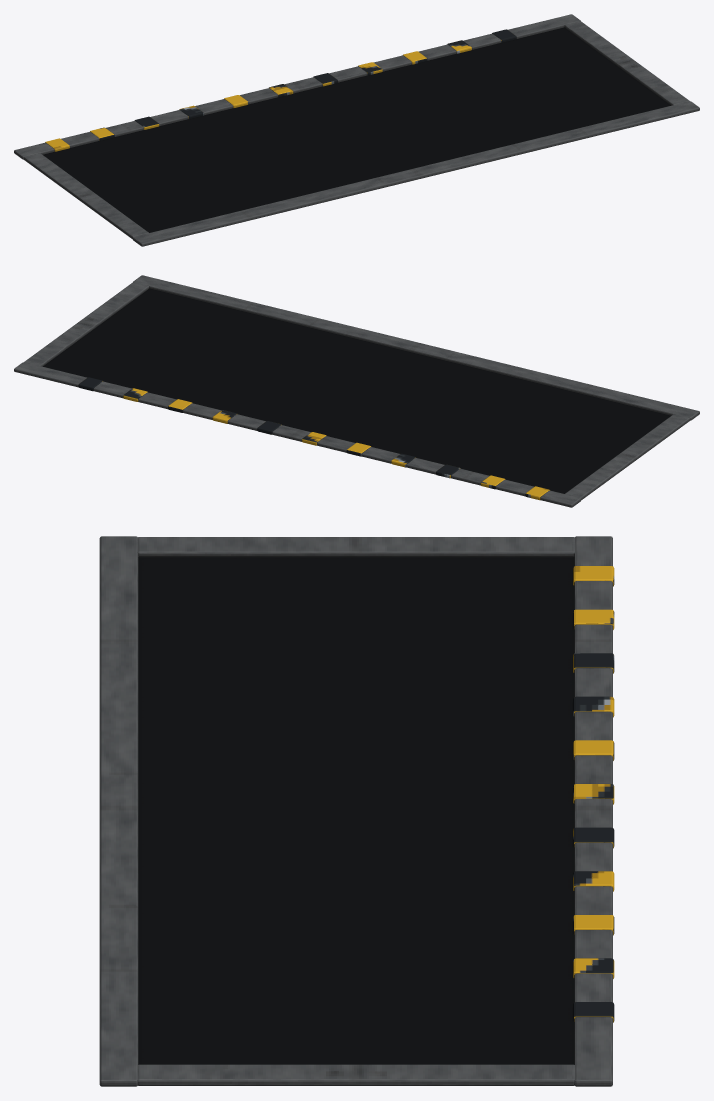
The model's file is base_rack_hatch.glb.
The picture shows the model from 3 angles, top to bottom: view 1: azimuth 30°, elevation 25°; view 2: azimuth 150°, elevation 25°; view 3: azimuth 270°, elevation 25°; orthographic projection. The views are drawn at different scales.
Visible parts, largest first — view 1: base_rack_hatch; view 2: base_rack_hatch; view 3: base_rack_hatch.
Part boxes in pixels (bbox=[...]): base_rack_hatch: bbox=[14, 14, 699, 246]; base_rack_hatch: bbox=[14, 275, 699, 507]; base_rack_hatch: bbox=[99, 536, 614, 1086].
Size of the model in its own units: 5 by 0.0355 by 2.
Materials: 3 (3 with a texture image).
